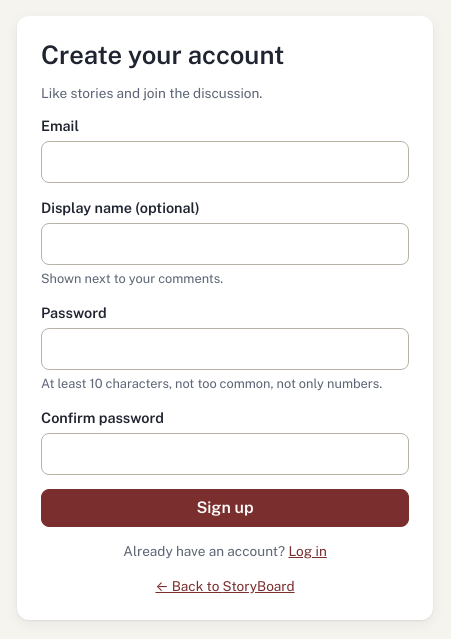
Test case: RegisterPage › never logs in or reveals whether the address existed: it says to check the email
This screenshot has width=451, height=639.
Type "new@example.com" into the field labelled "Email".
click(225, 162); type("new@example.com")  # box left=41, top=141, right=409, bottom=183
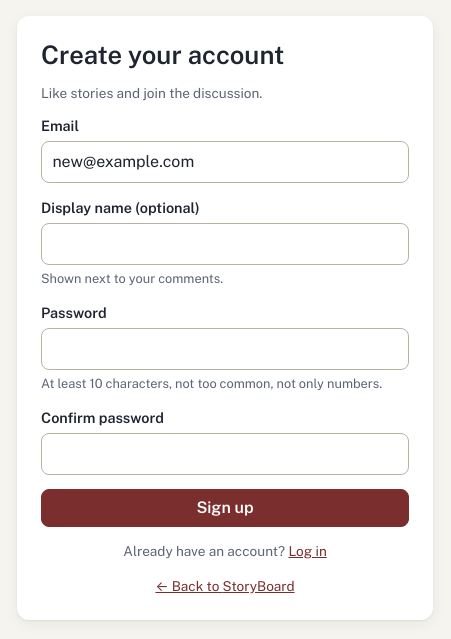
Type "Correct-horse-battery-9" into the password field labelled "Password".
click(225, 349); type("Correct-horse-battery-9")  # box left=41, top=328, right=409, bottom=370
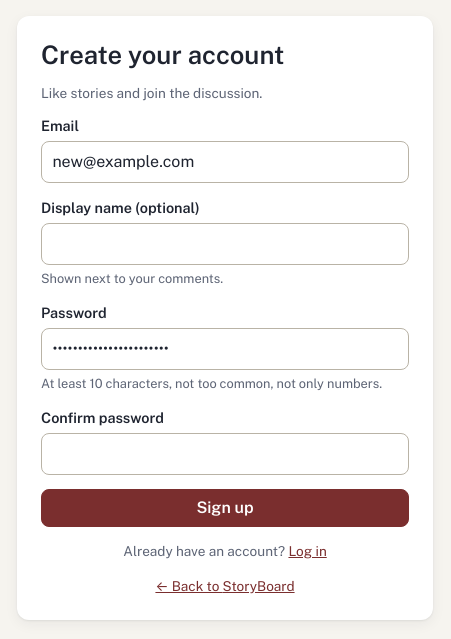
Type "Correct-horse-battery-9" into the password field labelled "Confirm password".
click(225, 454); type("Correct-horse-battery-9")  # box left=41, top=433, right=409, bottom=475
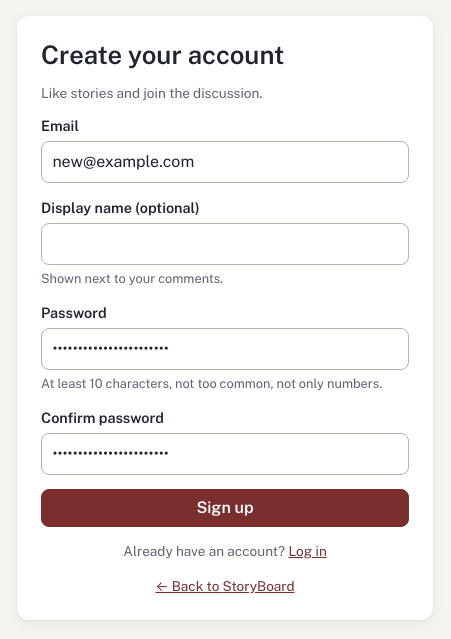
Click the button "Sign up".
click(225, 508)  # box left=41, top=489, right=409, bottom=527
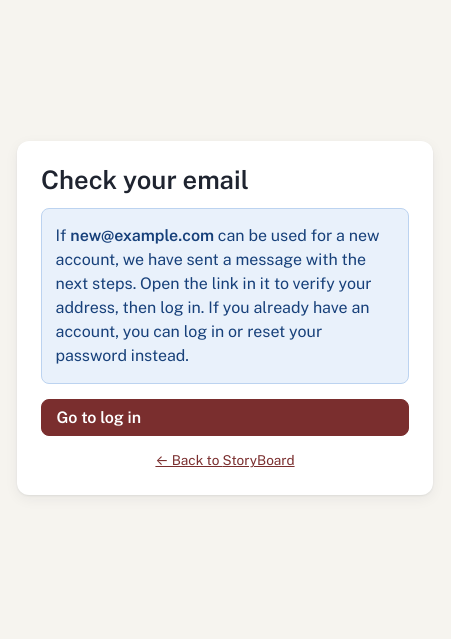
Check: the heading "Check your email" is shown, box left=41, top=165, right=249, bottom=195
Check: the text "new@example.com" is shown, box left=70, top=226, right=214, bottom=245
Check: the link "Go to log in" is shown, box left=41, top=399, right=409, bottom=436
